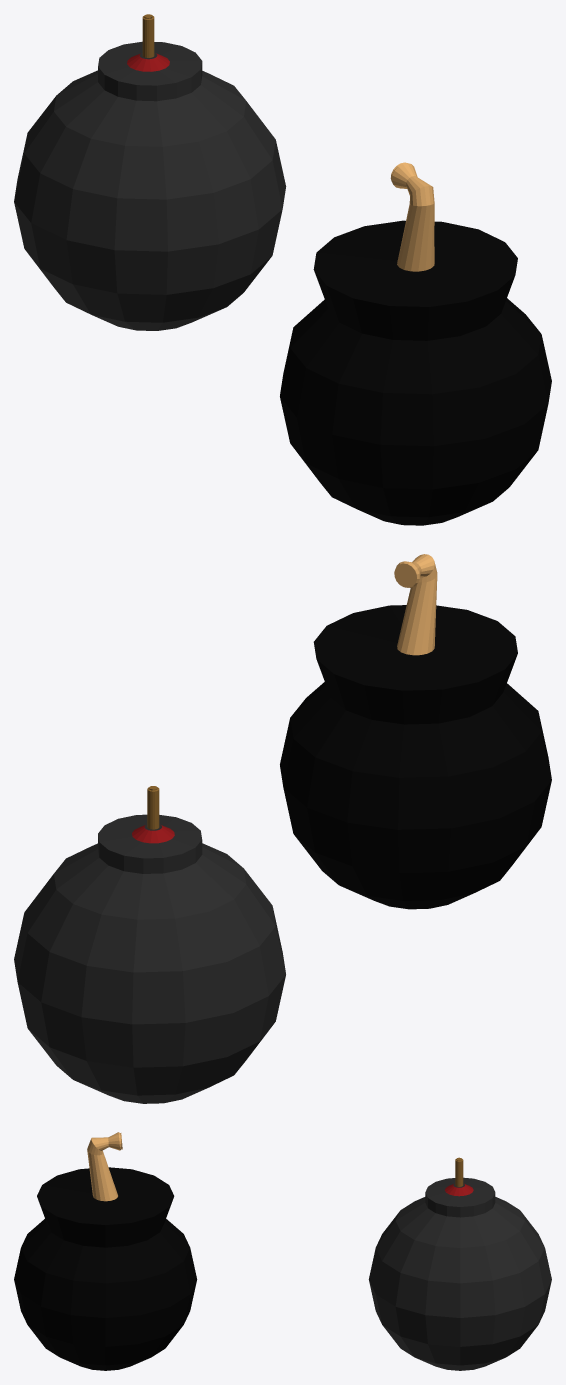
The model's file is bombs.fbx.
3 views of the same model, one above another, from view 1: azimuth 30°, elevation 25°; view 2: azimuth 150°, elevation 25°; view 3: azimuth 270°, elevation 25° (orthographic). The views are drawn at different scales.
Visible parts, largest first — view 1: Sphere.001, Sphere; view 2: Sphere.001, Sphere; view 3: Sphere.001, Sphere.
Boxes of the visible parts, x1,y1,x2,y2 form: Sphere.001: (280,162,551,525); Sphere: (14,14,286,330); Sphere.001: (280,554,551,909); Sphere: (14,786,285,1103); Sphere.001: (14,1132,197,1370); Sphere: (368,1157,551,1370).
Bounding box in the file's own units: 200 × 276 × 587.
